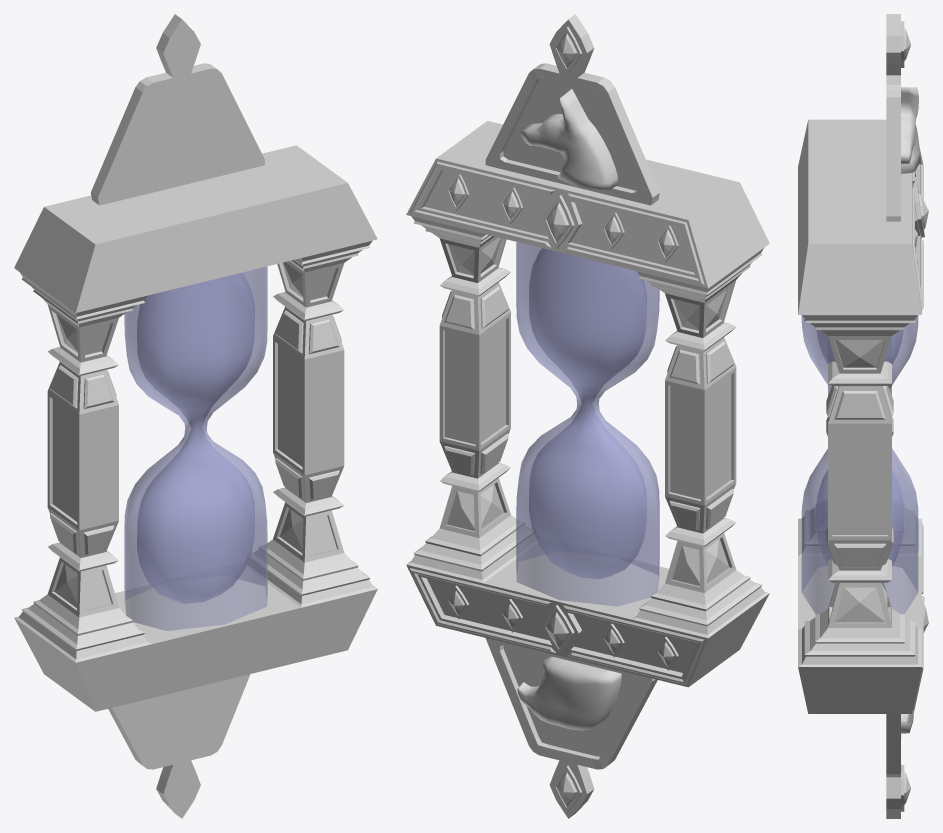
Rendered from Hourglass_low.fbx.
3 renders of one model, left to right at view 1: azimuth 30°, elevation 25°; view 2: azimuth 150°, elevation 25°; view 3: azimuth 270°, elevation 25°, orthographic.
Parts seen in each view (by area): view 1: Base_low, Outer_glass_low, Inner_glass_low, Piece_low; view 2: Base_low, Outer_glass_low, Inner_glass_low, Piece_low, Heads_low, Jewels_blue_multi_low, Jewels_red_multi_low, Jewel_blue_single_low, Jewel_red_single_low; view 3: Base_low, Outer_glass_low, Piece_low, Inner_glass_low, Heads_low, Jewel_blue_single_low.
Part boxes in pixels (x1=…): Base_low: x1=14, y1=145, x2=377, y2=711; Outer_glass_low: x1=124, y1=266, x2=267, y2=630; Inner_glass_low: x1=137, y1=273, x2=254, y2=603; Piece_low: x1=90, y1=14, x2=264, y2=818; Base_low: x1=406, y1=121, x2=769, y2=687; Outer_glass_low: x1=516, y1=242, x2=659, y2=606; Inner_glass_low: x1=529, y1=248, x2=646, y2=578; Piece_low: x1=485, y1=14, x2=659, y2=818; Heads_low: x1=517, y1=88, x2=621, y2=730; Jewels_blue_multi_low: x1=446, y1=174, x2=678, y2=262; Jewels_red_multi_low: x1=446, y1=585, x2=678, y2=670; Jewel_blue_single_low: x1=542, y1=195, x2=574, y2=248; Jewel_red_single_low: x1=542, y1=605, x2=574, y2=654; Base_low: x1=798, y1=119, x2=923, y2=713; Outer_glass_low: x1=801, y1=315, x2=918, y2=614; Piece_low: x1=886, y1=14, x2=910, y2=818; Inner_glass_low: x1=816, y1=330, x2=903, y2=565; Heads_low: x1=901, y1=87, x2=920, y2=733; Jewel_blue_single_low: x1=914, y1=186, x2=928, y2=237.
Size of the model in its own units: 253 by 640 by 94.31.
